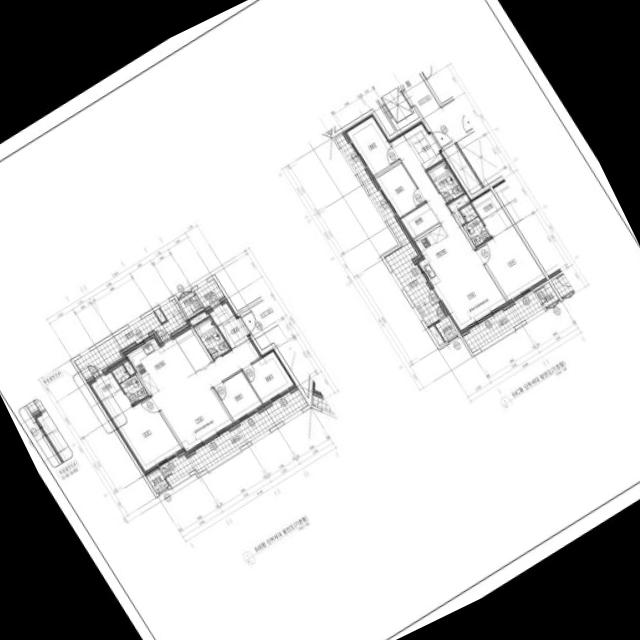background: (0, 0, 640, 640)
space_balconi: (334, 133, 445, 326), (158, 389, 307, 484), (74, 298, 187, 379), (462, 290, 543, 352), (193, 278, 223, 308)
space_bedroom: (401, 73, 474, 149), (476, 225, 547, 302), (110, 396, 181, 472), (343, 113, 399, 176), (373, 162, 425, 218), (242, 350, 294, 403), (213, 370, 261, 421)
space_dressroom: (469, 187, 512, 237), (88, 371, 131, 419)
space_elevator_hall: (239, 299, 278, 338)
space_front: (410, 130, 444, 169), (217, 315, 249, 349)
space_kitchen: (126, 337, 195, 399), (412, 224, 467, 288)
space_living_room: (388, 132, 508, 334), (153, 338, 261, 451)
space_other: (456, 130, 501, 186), (443, 143, 481, 194), (173, 325, 211, 370), (398, 202, 438, 239), (447, 193, 469, 224), (401, 120, 428, 144), (534, 282, 558, 307), (209, 301, 235, 324), (178, 292, 201, 315), (428, 324, 444, 345), (189, 311, 208, 325), (154, 308, 165, 322), (123, 360, 134, 374)
space_outdoor_room: (434, 316, 457, 341), (146, 468, 168, 492)
space_toilet: (192, 316, 230, 359), (426, 160, 463, 203), (111, 364, 148, 404), (459, 203, 490, 246)
